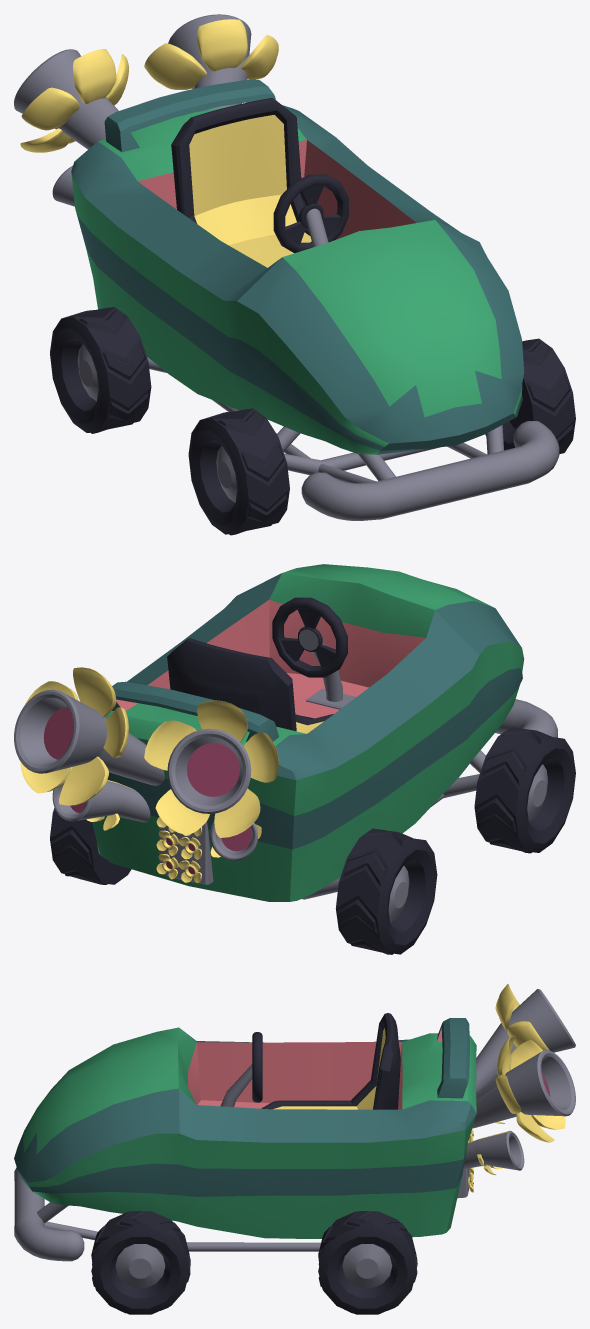
File: Kart1.fbx
3 views of the same model, one above another, from view 1: azimuth 30°, elevation 25°; view 2: azimuth 150°, elevation 25°; view 3: azimuth 270°, elevation 25° (orthographic). The views are drawn at different scales.
Parts seen in each view (by area): view 1: Tybo parashok, Rodas.002, Rodas.003, Rodas, Volante; view 2: Tybo parashok, Rodas.003, Rodas.002, Volante, Rodas.001, Volante Cabo; view 3: Tybo parashok, Rodas.001, Rodas, Volante, Volante Cabo.
Boxes of the visible parts, x1,y1,x2,y2 form: Tybo parashok: [14, 14, 559, 520]; Rodas.002: [188, 408, 289, 535]; Rodas.003: [50, 307, 151, 433]; Rodas: [485, 338, 575, 454]; Volante: [273, 174, 348, 253]; Tybo parashok: [14, 564, 557, 901]; Rodas.003: [335, 828, 437, 954]; Rodas.002: [474, 727, 575, 853]; Volante: [272, 597, 347, 677]; Rodas.001: [50, 808, 131, 884]; Volante Cabo: [312, 642, 342, 701]; Tybo parashok: [14, 984, 575, 1261]; Rodas.001: [318, 1211, 417, 1314]; Rodas: [91, 1211, 190, 1314]; Volante: [252, 1032, 262, 1102]; Volante Cabo: [220, 1064, 252, 1106].
Size of the model in its own units: 135 by 112 by 240.
